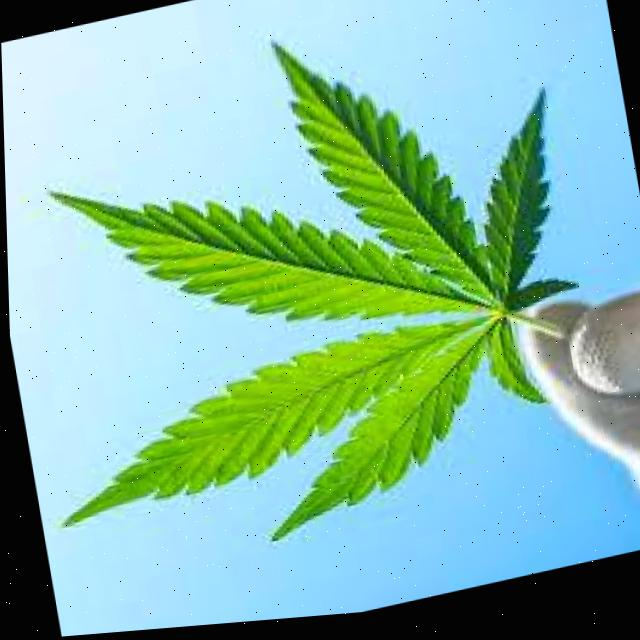cannabis: (49, 41, 576, 541)
